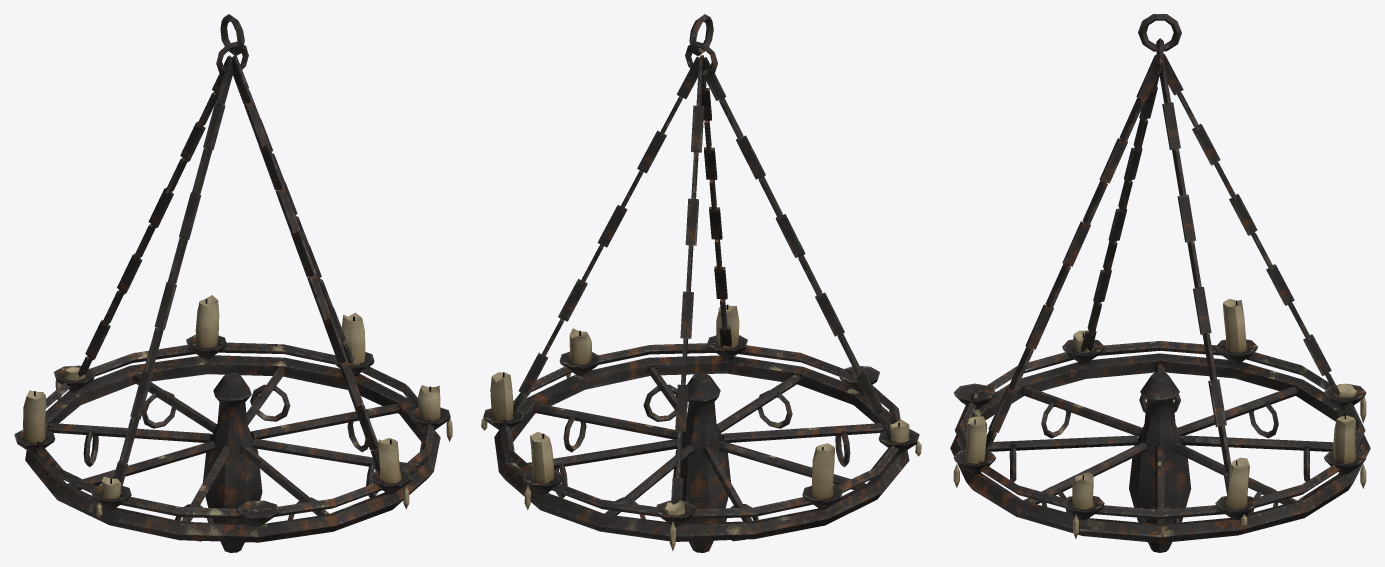
The model's file is chandelier.glb.
The picture shows the model from 3 angles, left to right: view 1: azimuth 30°, elevation 25°; view 2: azimuth 150°, elevation 25°; view 3: azimuth 270°, elevation 25°; orthographic projection.
Visible parts, largest first — view 1: Chandelier; view 2: Chandelier; view 3: Chandelier.
Part boxes in pixels (x1=…): Chandelier: x1=14, y1=14, x2=452, y2=552; Chandelier: x1=481, y1=14, x2=921, y2=552; Chandelier: x1=950, y1=14, x2=1370, y2=552.
Size of the model in its own units: 0.9424 by 1.33 by 0.9449.
Materials: 1 (1 with a texture image).
